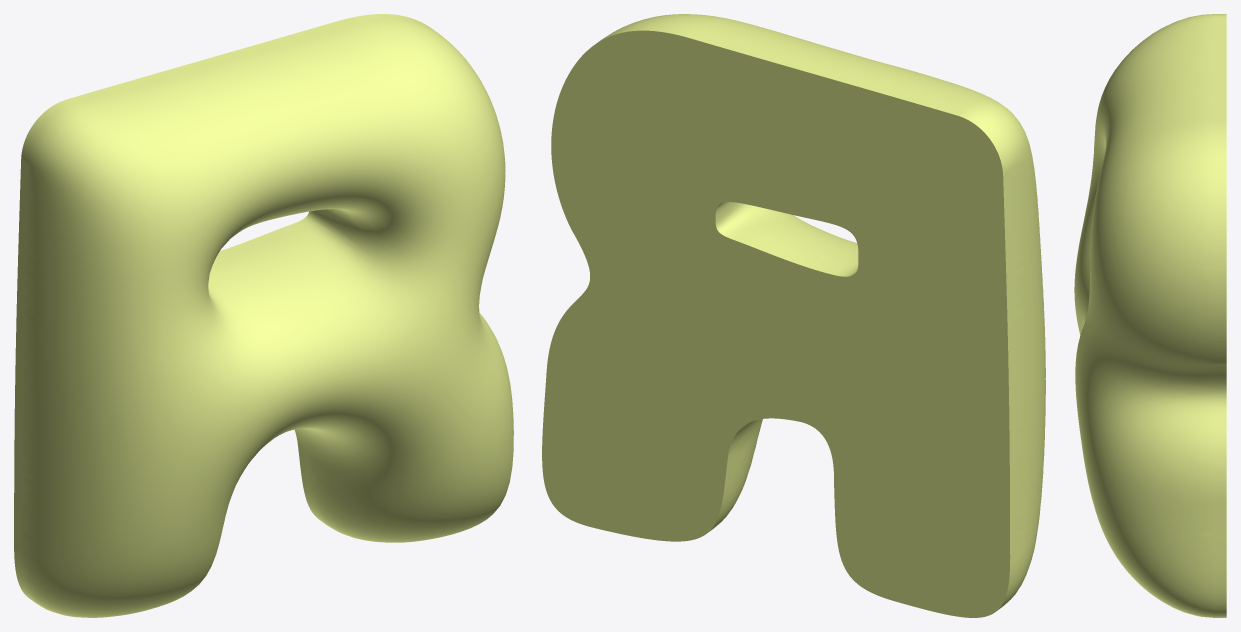
3 renders of one model, left to right at view 1: azimuth 30°, elevation 25°; view 2: azimuth 150°, elevation 25°; view 3: azimuth 270°, elevation 25°, orthographic. The views are drawn at different scales.
Bounding box in the file's own units: 0.6924 × 0.7269 × 0.2234.
